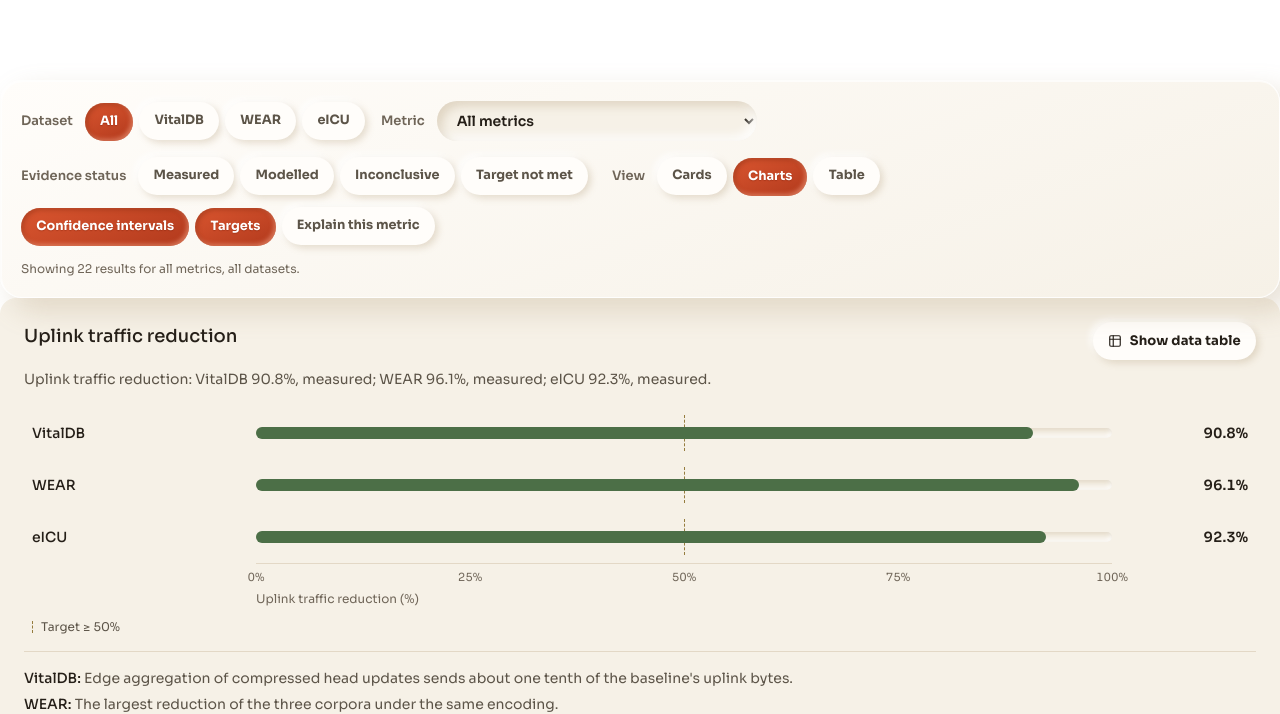
Test case: Results explorer filters › updates chart summary and announcement together
Select "Update delivery" in the dropdown named "Metric": (597, 121) [437,101,757,141]
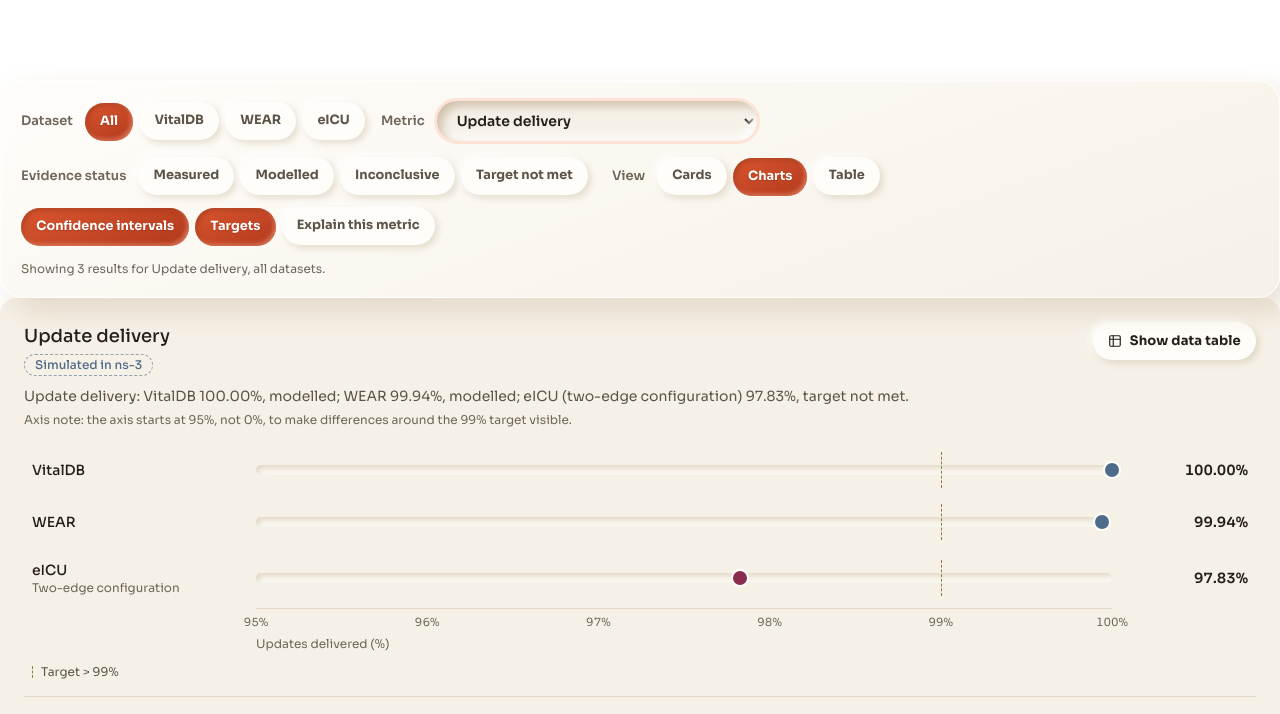
Click the radio button labelled "eICU": (334, 121) [302,102,365,140]
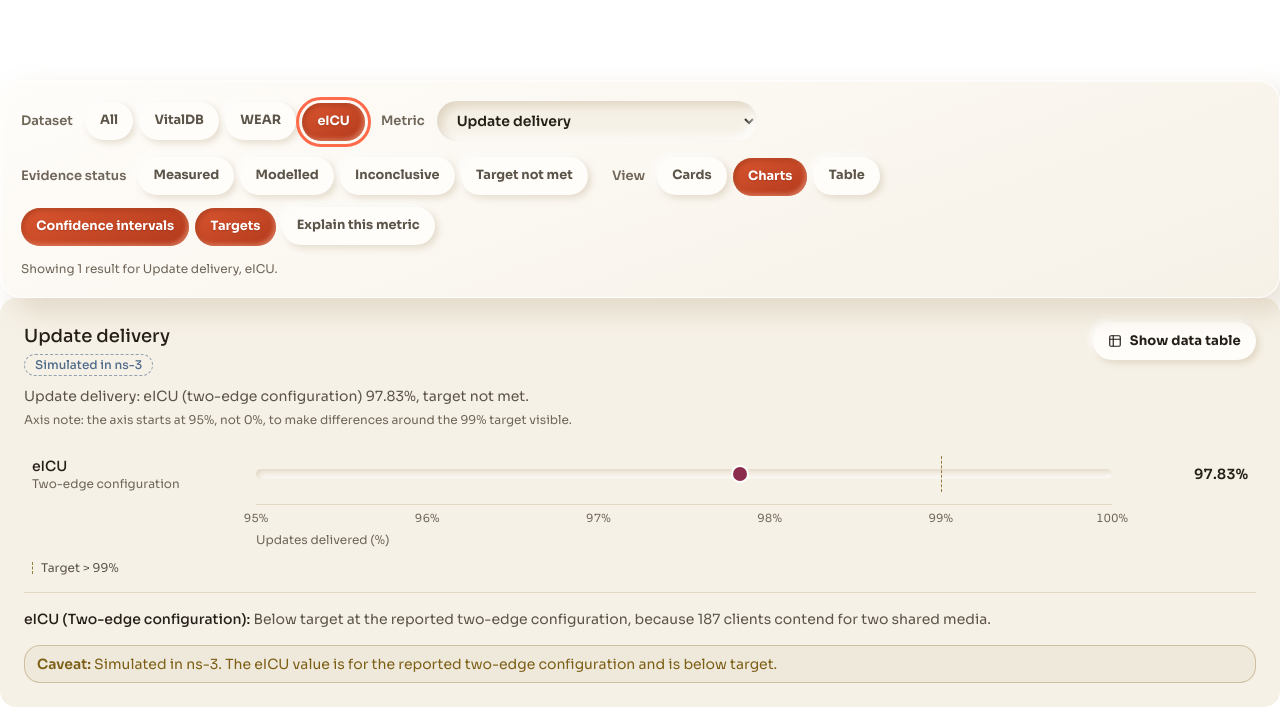
Expected: the text "Showing 1 result for Update delivery, eICU." is shown, [21,261,278,276]
